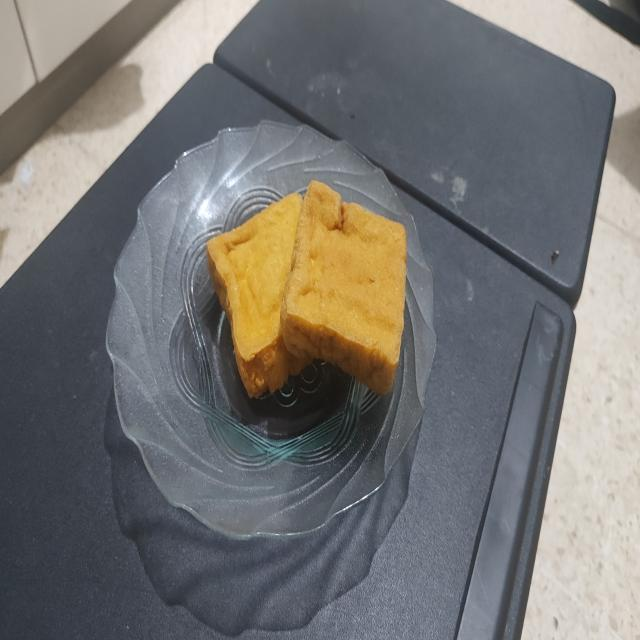tahu_goreng: (280, 180, 406, 395), (207, 194, 312, 398)
